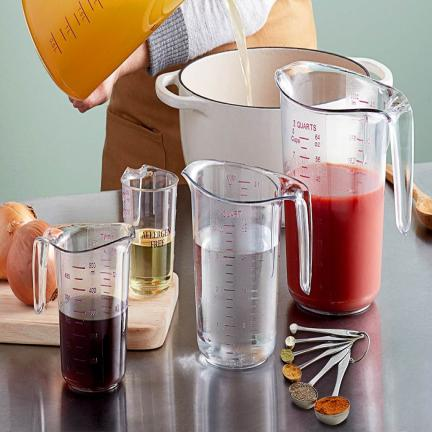container: (273, 62, 388, 315), (183, 161, 311, 369), (33, 223, 135, 393), (121, 164, 178, 297)
fluid: (284, 188, 384, 313), (193, 239, 278, 366), (60, 304, 129, 389), (130, 239, 171, 294)
fluid-surface: (287, 163, 383, 197), (193, 221, 280, 256), (60, 295, 127, 320), (134, 228, 172, 247)
